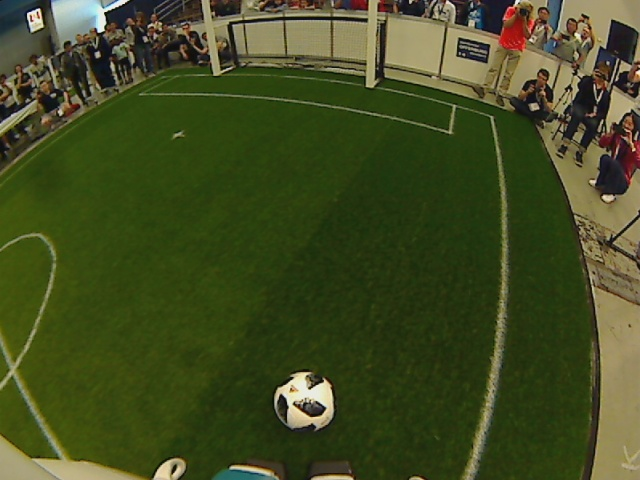ball: (271, 369, 338, 433)
